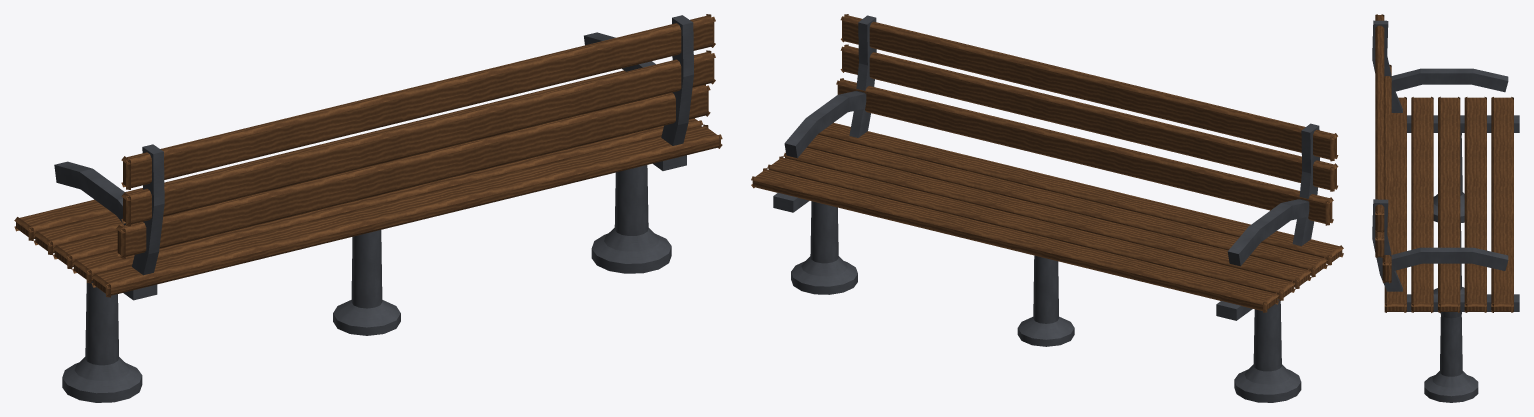
File: bench.obj
The picture shows the model from 3 angles, left to right: view 1: azimuth 30°, elevation 25°; view 2: azimuth 150°, elevation 25°; view 3: azimuth 270°, elevation 25°; orthographic projection. The views are drawn at different scales.
Parts seen in each view (by area): view 1: bench; view 2: bench; view 3: bench.
Part boxes in pixels (left/top/right/bottom): bench: left=14, top=14, right=722, bottom=402; bench: left=751, top=14, right=1343, bottom=402; bench: left=1372, top=14, right=1519, bottom=402.
Bounding box in the file's own units: 2.3 × 0.981 × 0.6899.
